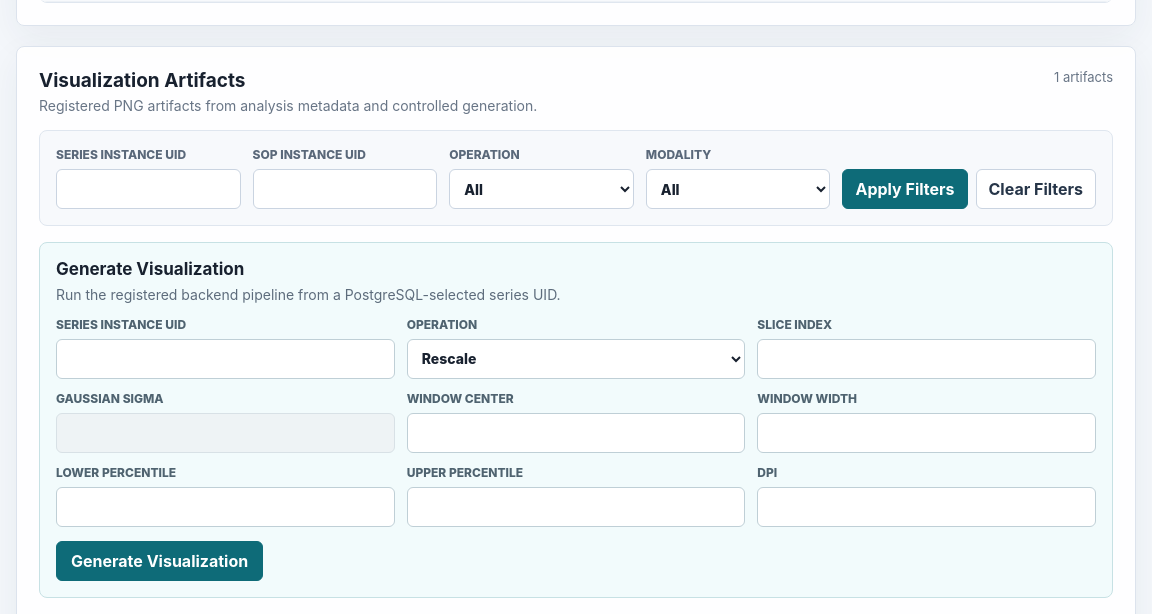
Test: VisualizationArtifactWorkbench › generated artifact is displayed even when active filters exclude it
(page scrolled)
Type "1.2.826.0.1.series" into the 2nd field labelled "Series Instance UID".
click(225, 358); type("1.2.826.0.1.series")  # box [56,338,395,378]
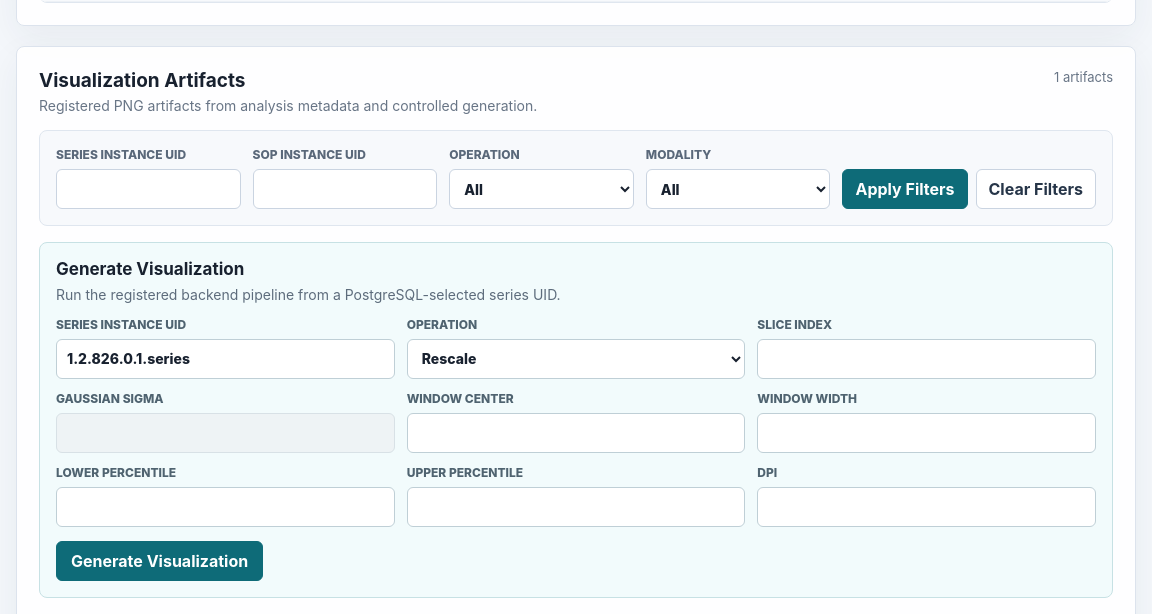
Click the button "Generate Visualization".
click(160, 560)  # box [56,540,263,580]
(page scrolled)
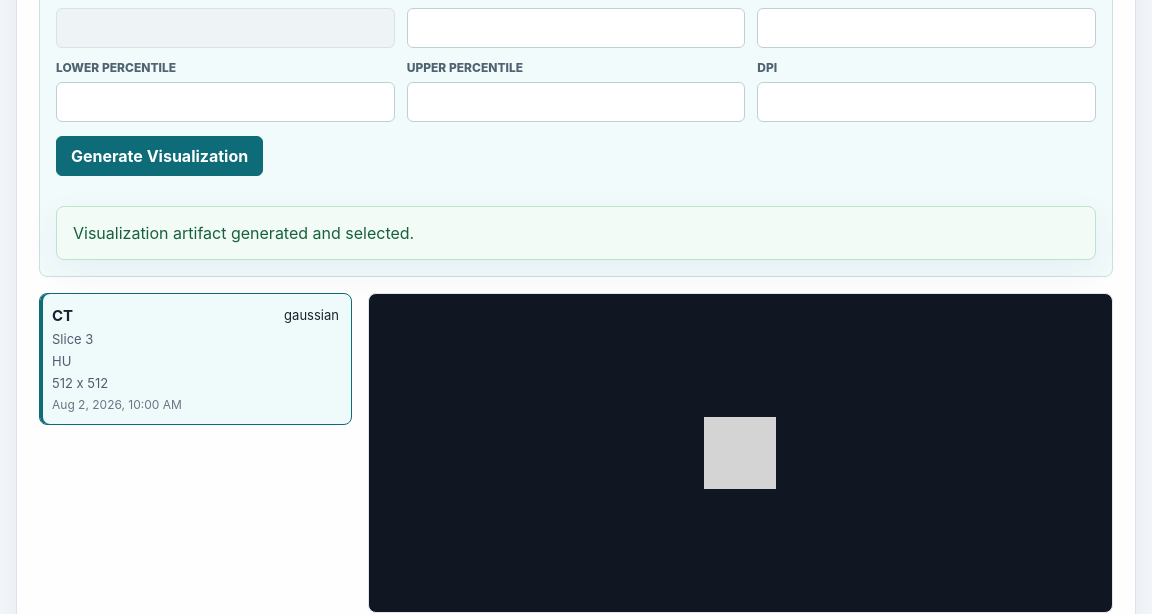
Check: the button "CT gaussian Slice 3 HU 512 x 512 Aug 2, 2026, 10:00 AM" is shown, box [39,292,352,424]
